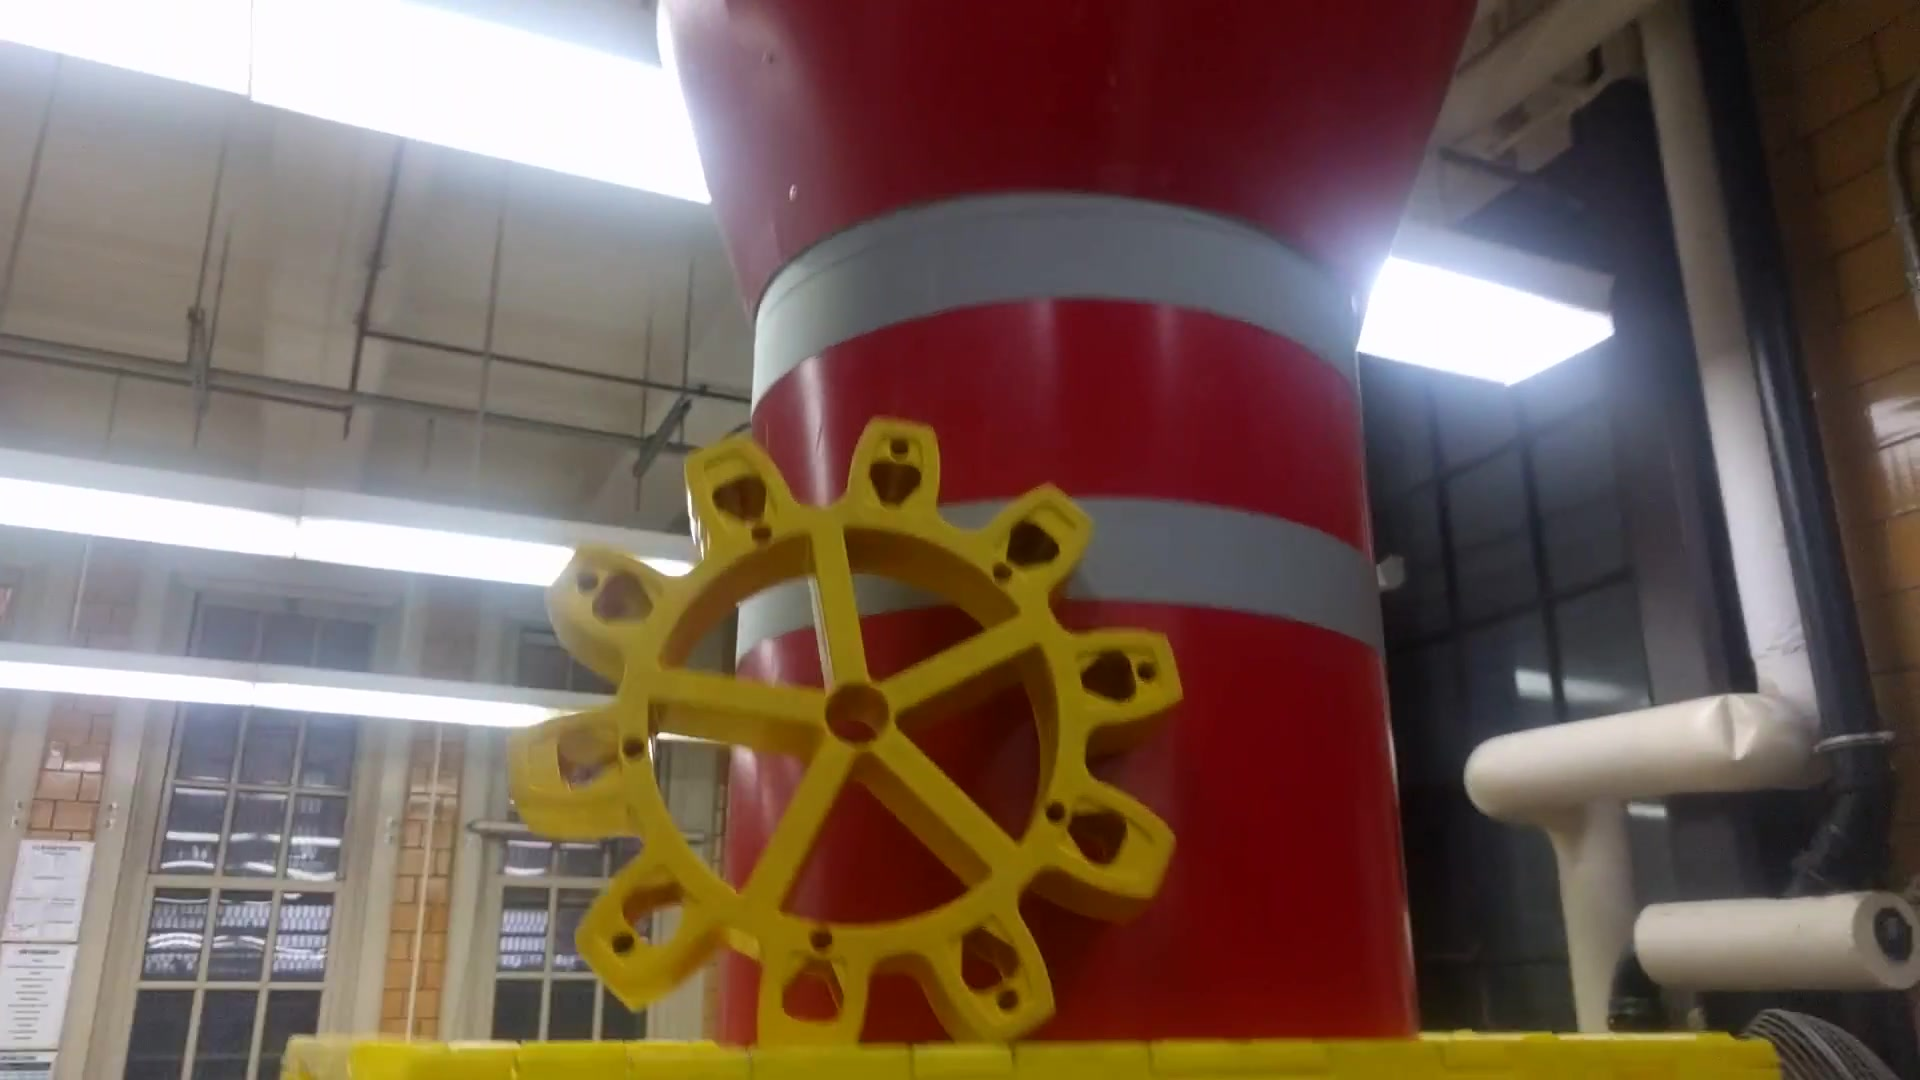gear: (496, 407, 1179, 1058)
